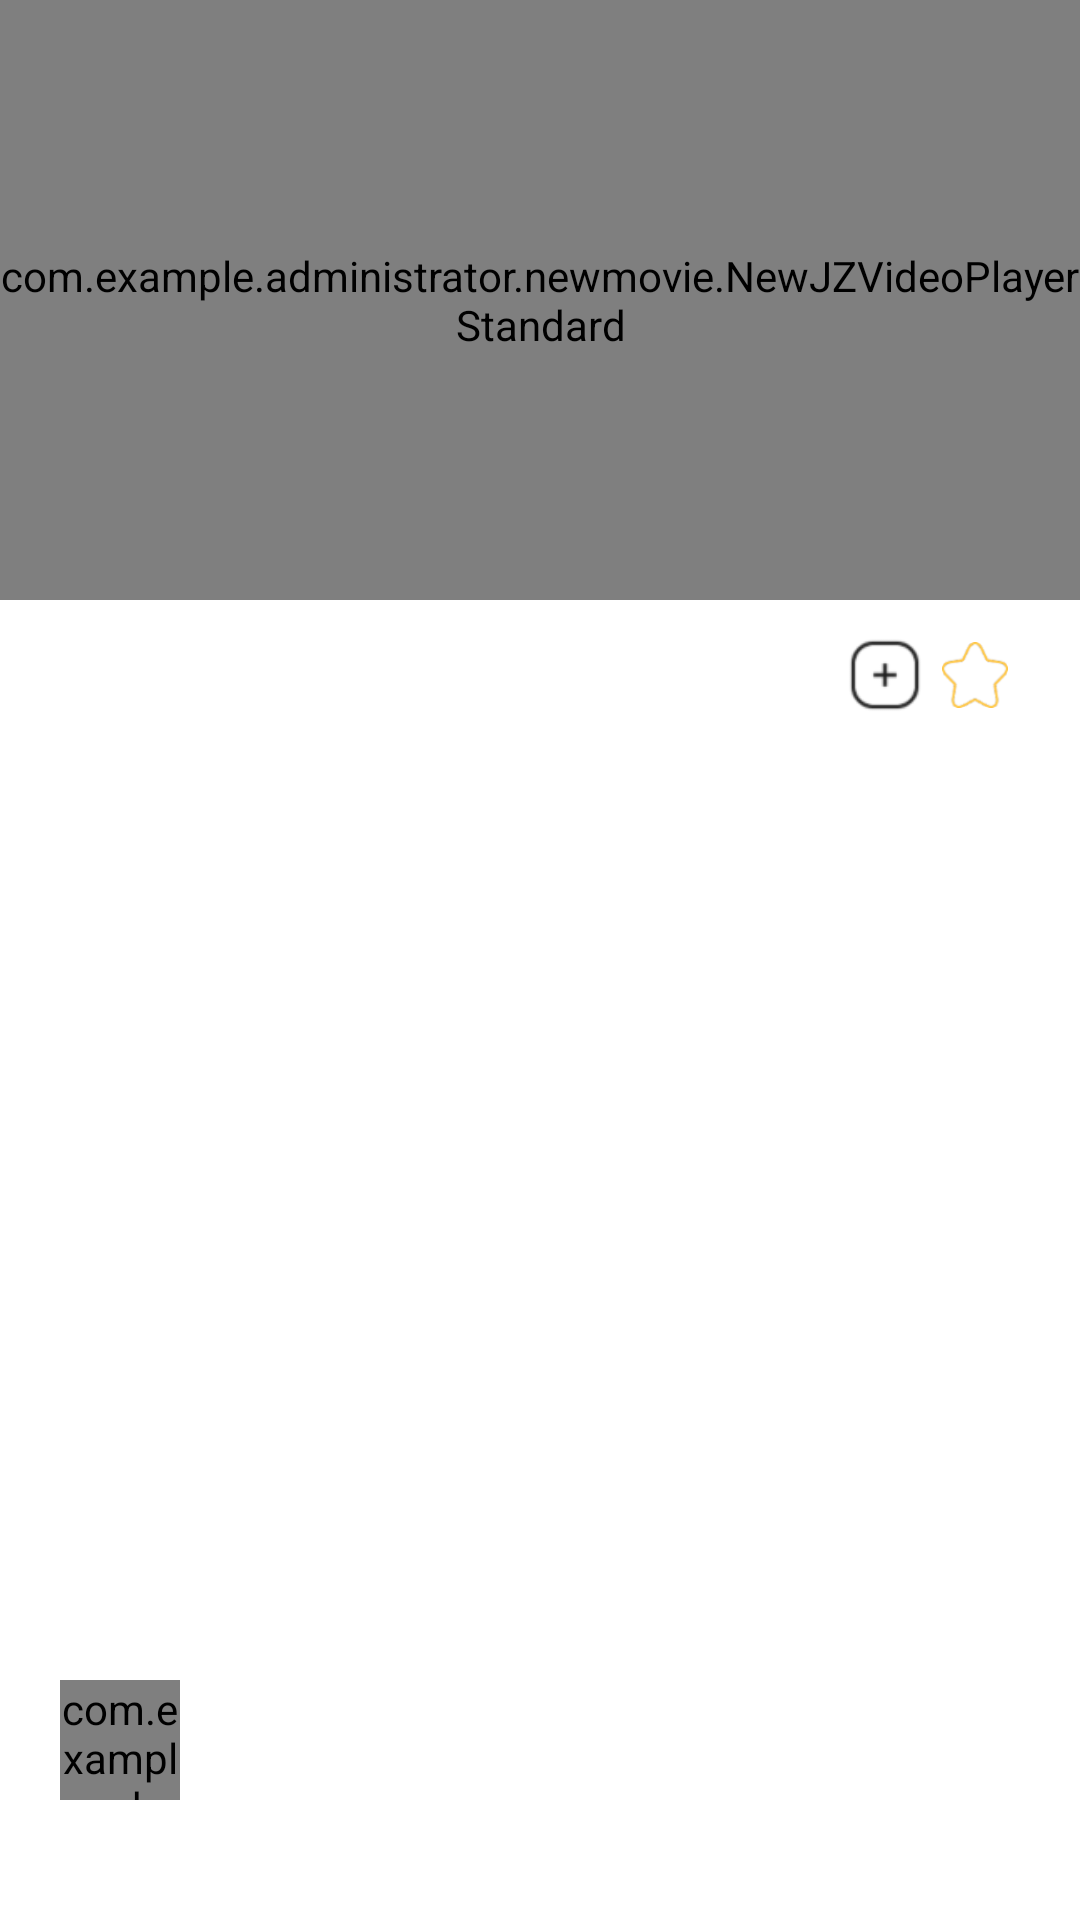

Named icons in this screenshot (1080x1920) and their bounding boxes, (x1=x1, y1=y1, x2=x2, y2=y2):
collect: (x1=942, y1=642, x2=1008, y2=708)
follow: (x1=850, y1=640, x2=920, y2=710)
